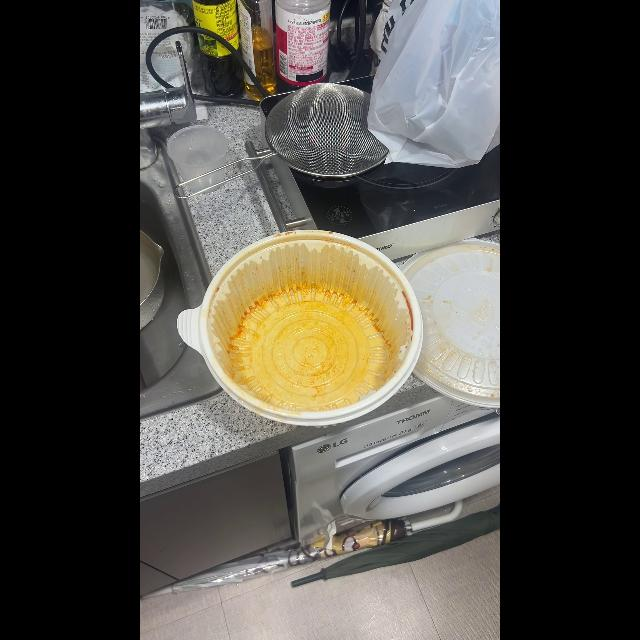dirty: (210, 243, 422, 419)
